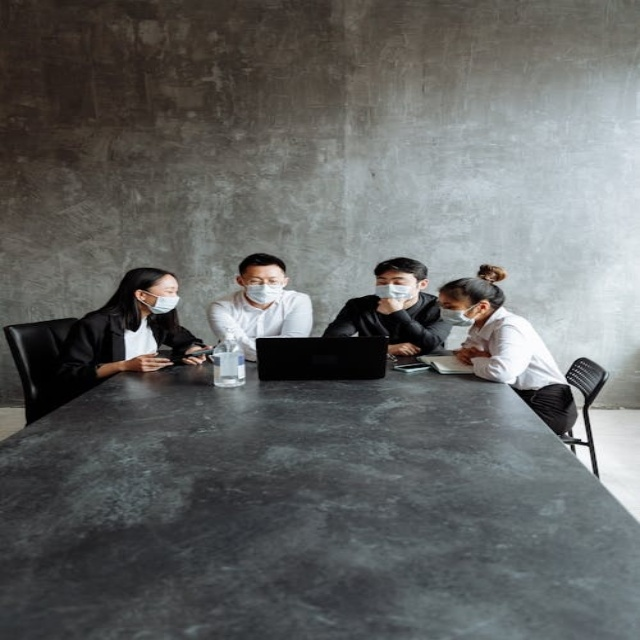Gafas: (242, 277, 287, 287)
Mascara: (242, 279, 286, 304), (439, 302, 480, 326), (139, 291, 180, 314), (374, 283, 418, 302)
Sin_gafas: (151, 284, 184, 296), (371, 275, 411, 282), (438, 300, 461, 308)
Sin_guantes: (125, 354, 173, 373), (454, 345, 479, 365), (387, 342, 419, 357), (182, 353, 207, 366)
